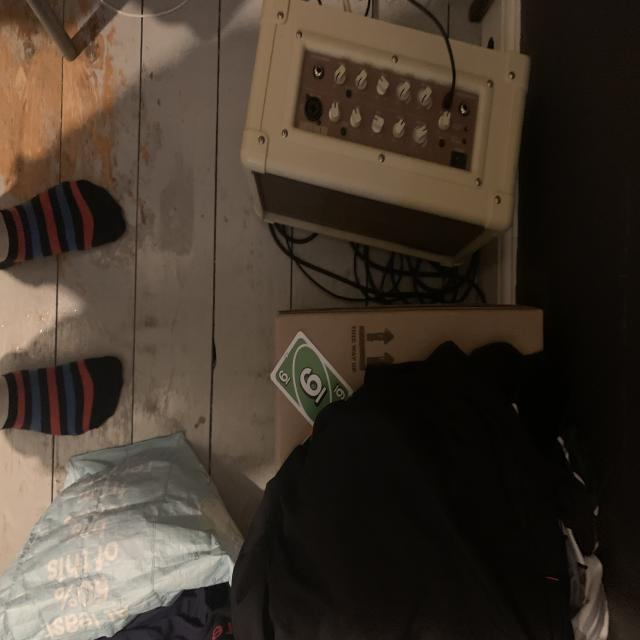lgreen-6: (276, 368, 293, 387)
